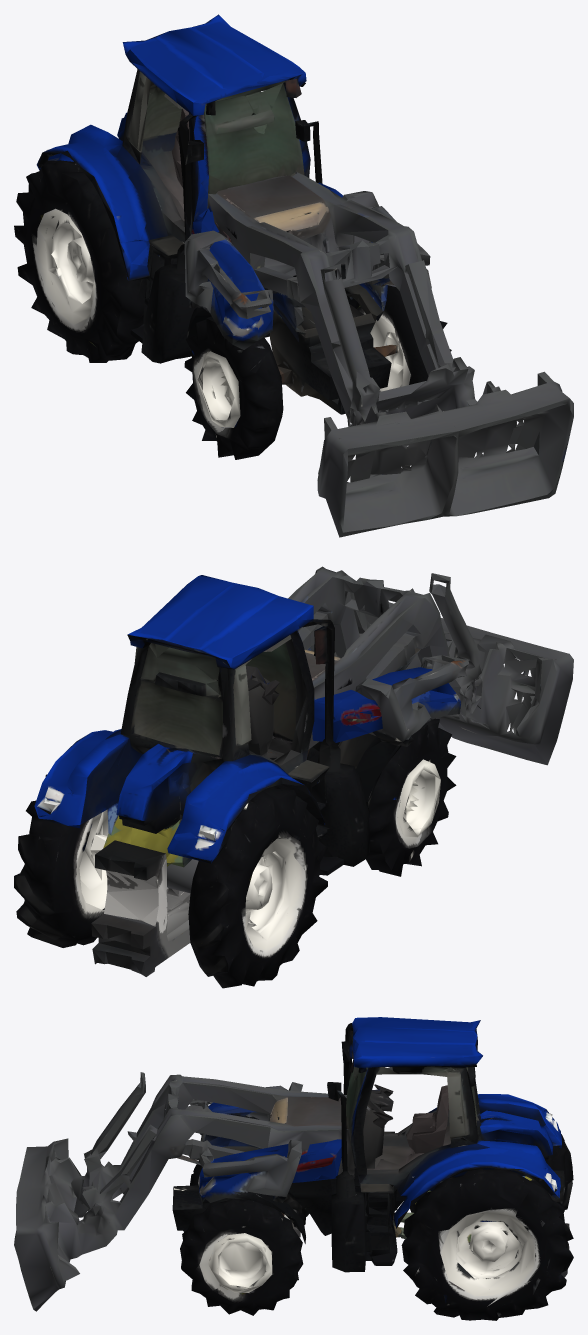
The model's file is traktor.glb.
3 views of the same model, one above another, from view 1: azimuth 30°, elevation 25°; view 2: azimuth 150°, elevation 25°; view 3: azimuth 270°, elevation 25° (orthographic). The views are drawn at different scales.
Parts seen in each view (by area): view 1: traktor_local; view 2: traktor_local; view 3: traktor_local.
Boxes of the visible parts, x1,y1,x2,y2 form: traktor_local: (14, 14, 573, 537); traktor_local: (14, 566, 573, 988); traktor_local: (14, 1017, 573, 1320).
Size of the model in its own units: 0.6065 by 0.7869 by 1.6.
Materials: 1 (1 with a texture image).
